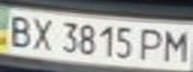1: (97, 22, 118, 58)
3: (54, 18, 81, 54)
5: (115, 24, 139, 61)
8: (75, 20, 96, 56)
B: (3, 11, 36, 48)
M: (160, 27, 193, 63)
P: (136, 25, 169, 62)
X: (24, 15, 57, 52)
